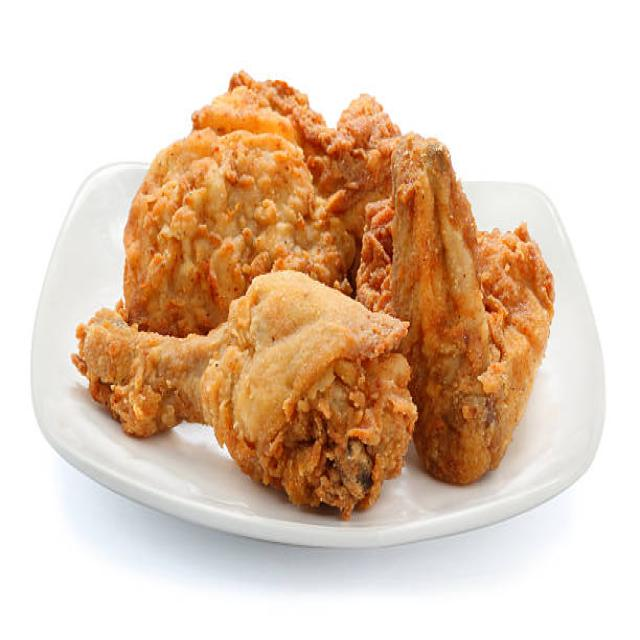Frango: (71, 68, 559, 519)
